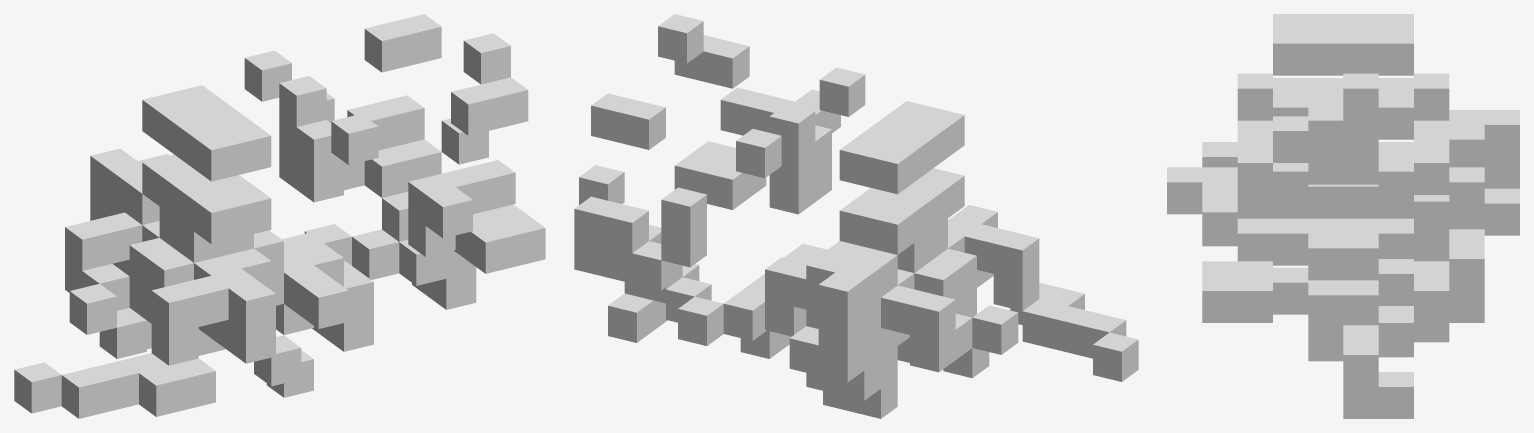
File: VFX_Smoke.glb
3 views of the same model, side by side, from view 1: azimuth 30°, elevation 25°; view 2: azimuth 150°, elevation 25°; view 3: azimuth 270°, elevation 25° (orthographic). The views are drawn at different scales.
Visible parts, largest first — view 1: st; view 2: st; view 3: st.
Boxes of the visible parts, bbox=[...] form: st: bbox=[14, 14, 545, 418]; st: bbox=[574, 14, 1138, 418]; st: bbox=[1167, 14, 1519, 418].
Size of what is drawn, in the model's own units: 1.7 by 1 by 1.
Materials: 1 (1 with a texture image).
